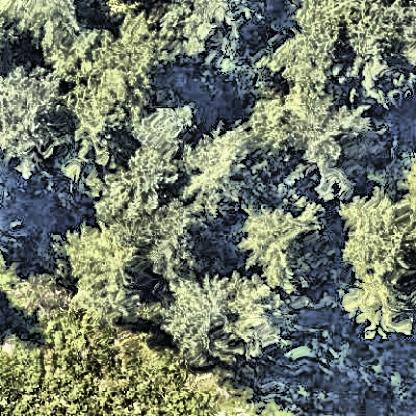tree-top: (160, 279, 295, 370), (338, 193, 416, 344), (273, 96, 390, 195), (48, 41, 159, 135), (64, 219, 154, 325), (183, 128, 271, 216), (96, 138, 190, 219), (241, 201, 337, 278), (150, 3, 256, 70), (1, 69, 65, 178), (279, 21, 348, 99), (341, 32, 412, 106), (161, 211, 220, 277), (1, 1, 93, 39)
